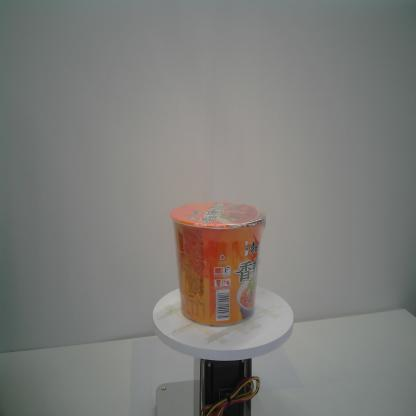Instant Noodles: (171, 200, 268, 328)
